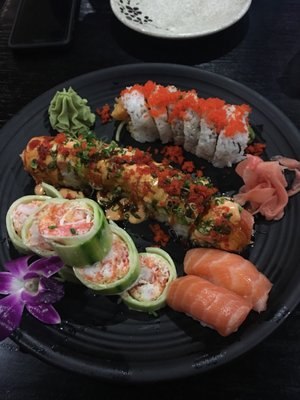curry: (1, 1, 299, 366)
